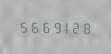eight: (83, 20, 93, 34)
five: (17, 19, 27, 33)
nine: (50, 19, 60, 34)
one: (61, 20, 71, 34)
six: (28, 19, 38, 33), (39, 19, 49, 33)
two: (72, 20, 82, 34)
